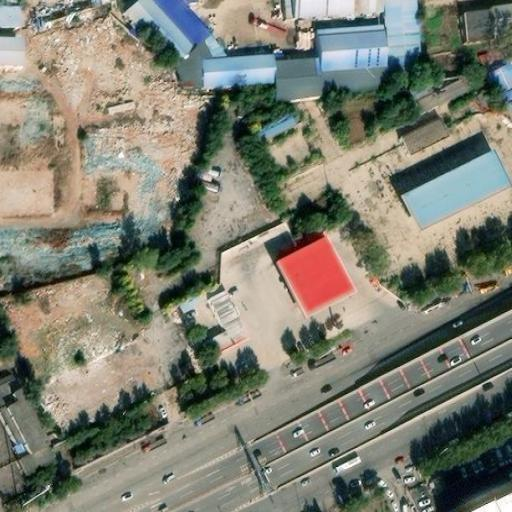building: (401, 150, 511, 230), (275, 233, 357, 319), (126, 0, 216, 64), (317, 24, 389, 73), (442, 469, 512, 512), (8, 386, 52, 453), (408, 66, 470, 112), (201, 53, 276, 89), (383, 0, 423, 67), (401, 116, 451, 155), (275, 57, 322, 98), (321, 67, 390, 94), (177, 43, 212, 91), (205, 318, 246, 354), (257, 106, 298, 139), (206, 289, 240, 326), (463, 10, 495, 42), (0, 36, 24, 66), (203, 33, 227, 58)
